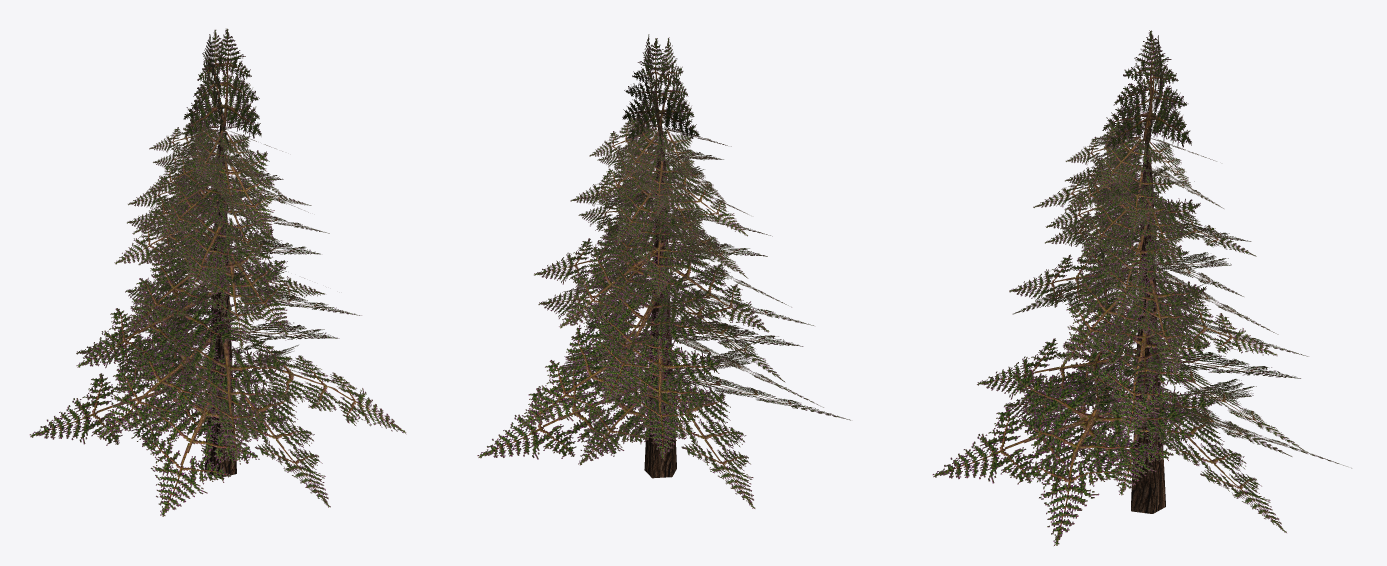
Rendered from mm9_deco_tree06.glb.
3 views of the same model, side by side, from view 1: azimuth 30°, elevation 25°; view 2: azimuth 150°, elevation 25°; view 3: azimuth 270°, elevation 25° (orthographic). The views are drawn at different scales.
Visible parts, largest first — view 1: Tree06; view 2: Tree06; view 3: Tree06.
Boxes of the visible parts, x1,y1,x2,y2 form: Tree06: [29, 28, 406, 516]; Tree06: [477, 34, 850, 508]; Tree06: [932, 30, 1351, 545].
Bounding box in the file's own units: 10.12 × 12.12 × 10.7.
Materials: 2 (2 with a texture image).
